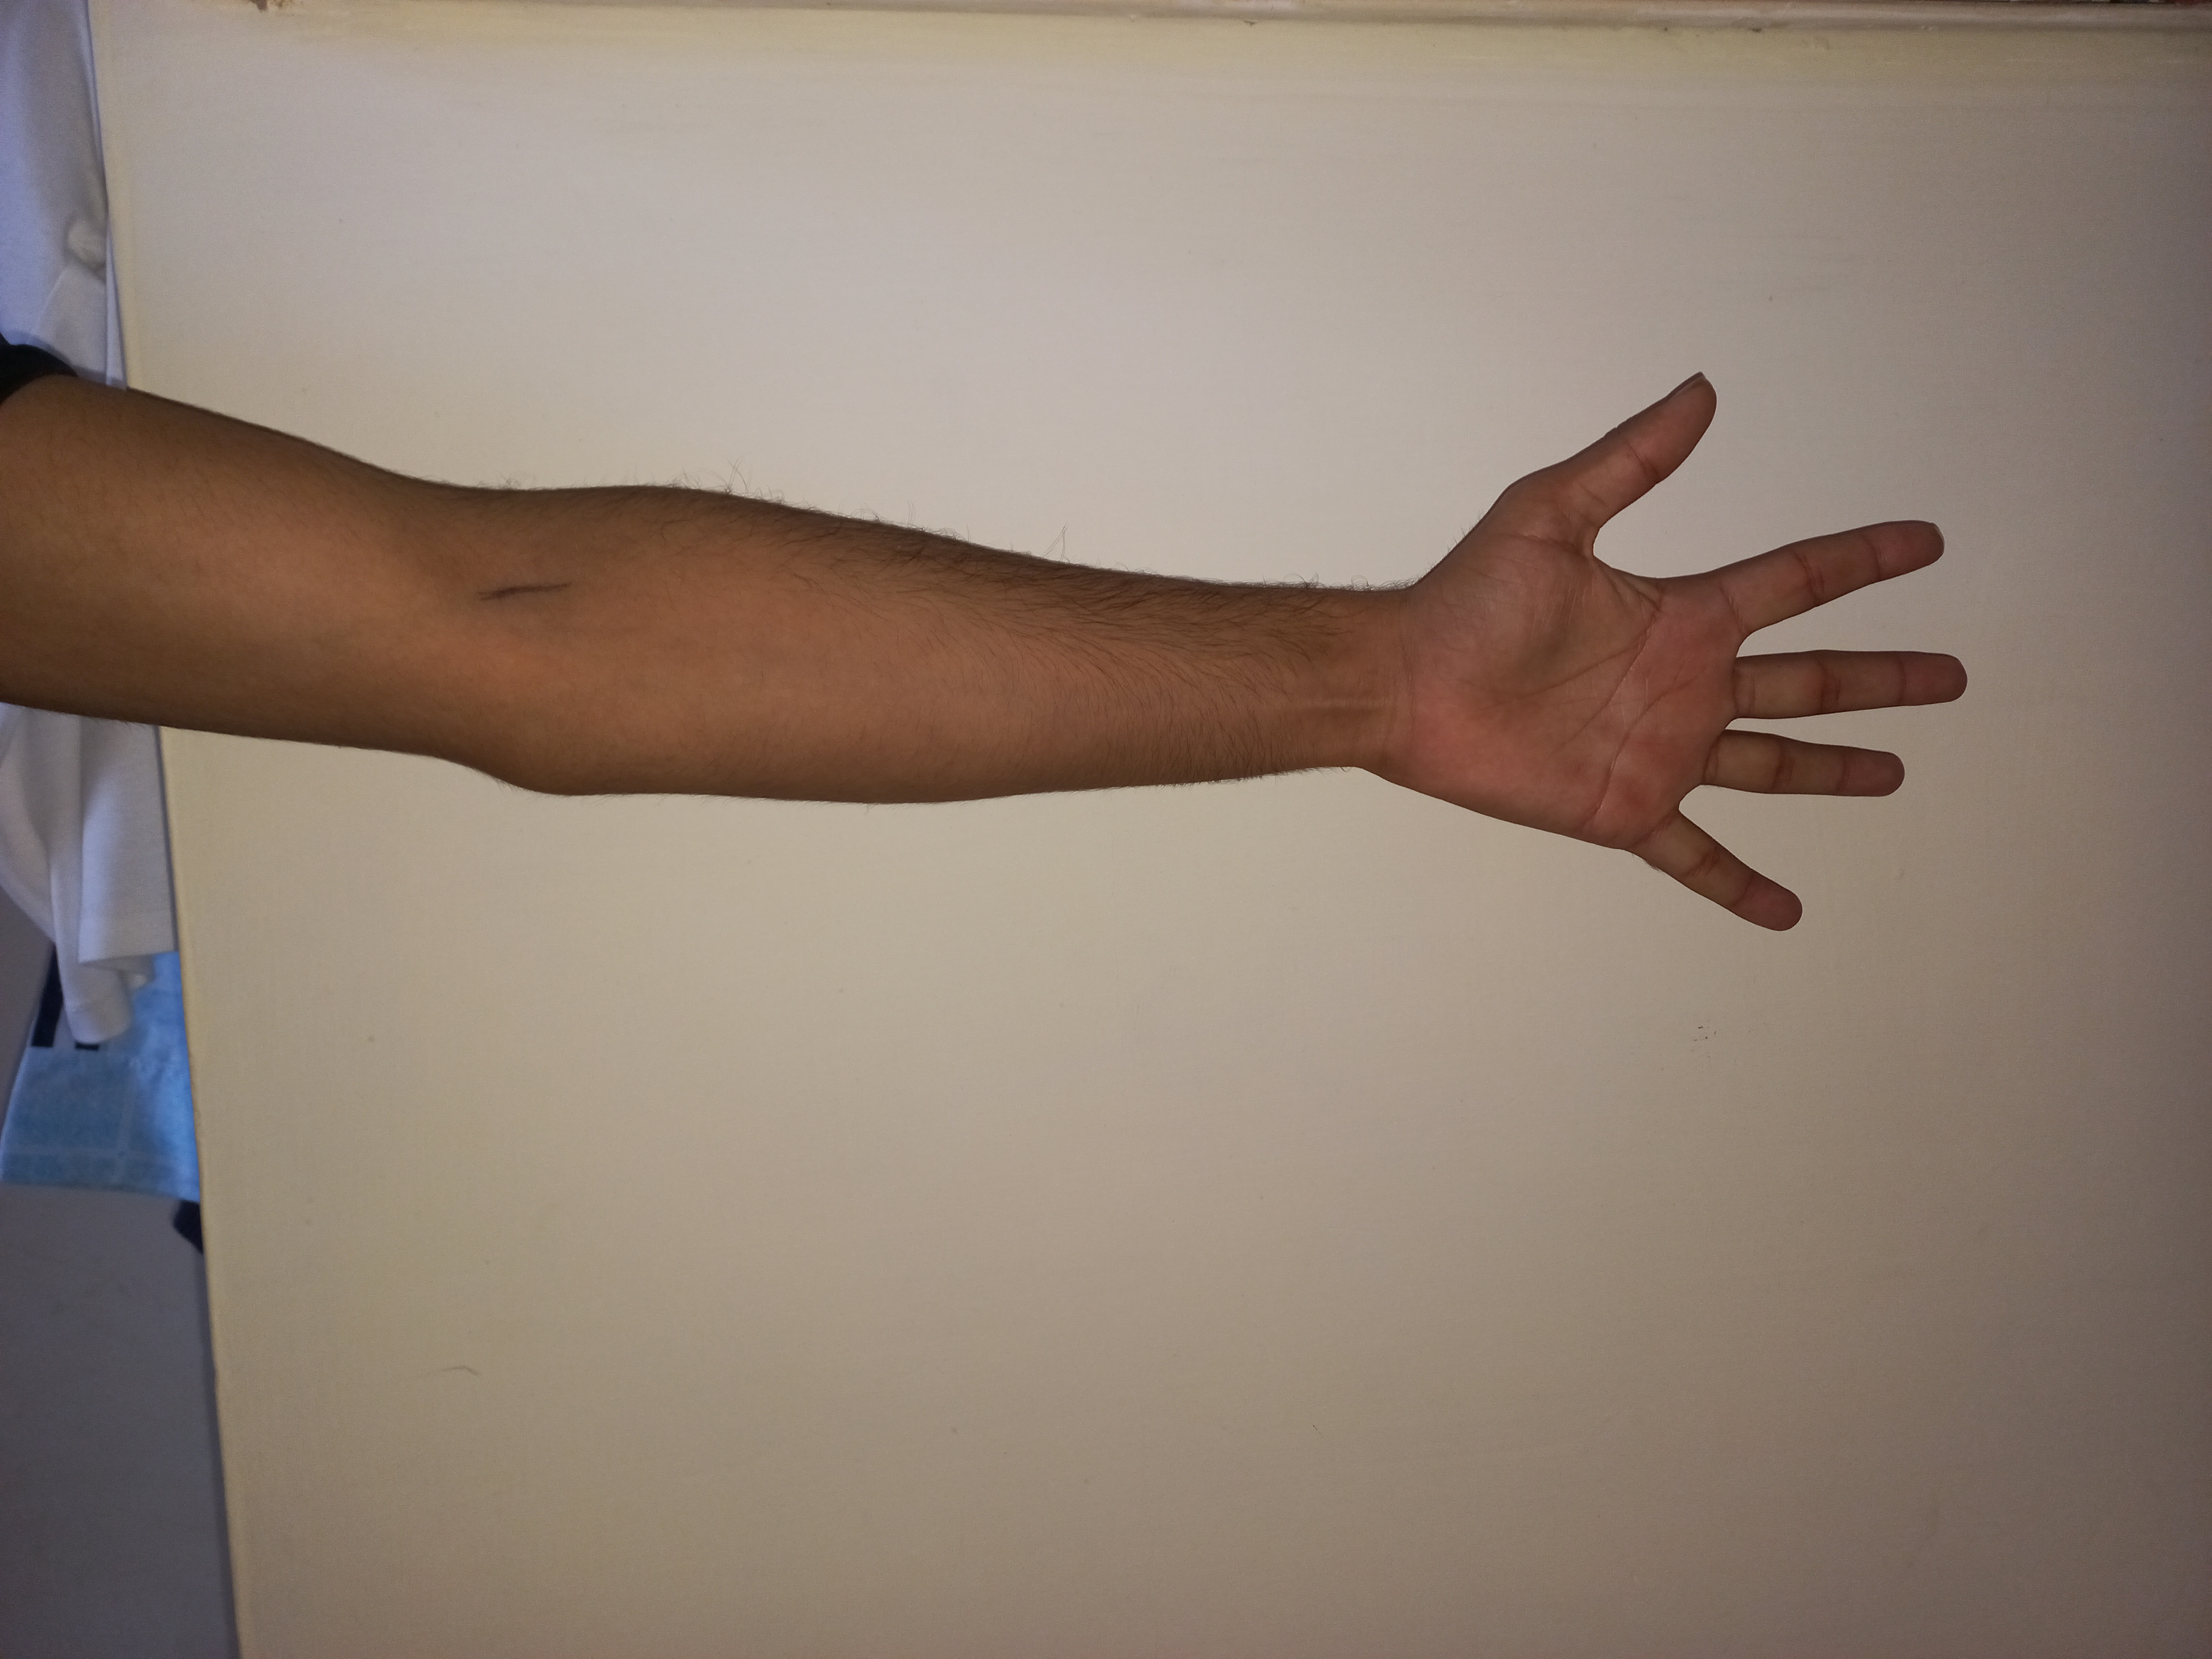vein: (465, 570, 599, 612)
